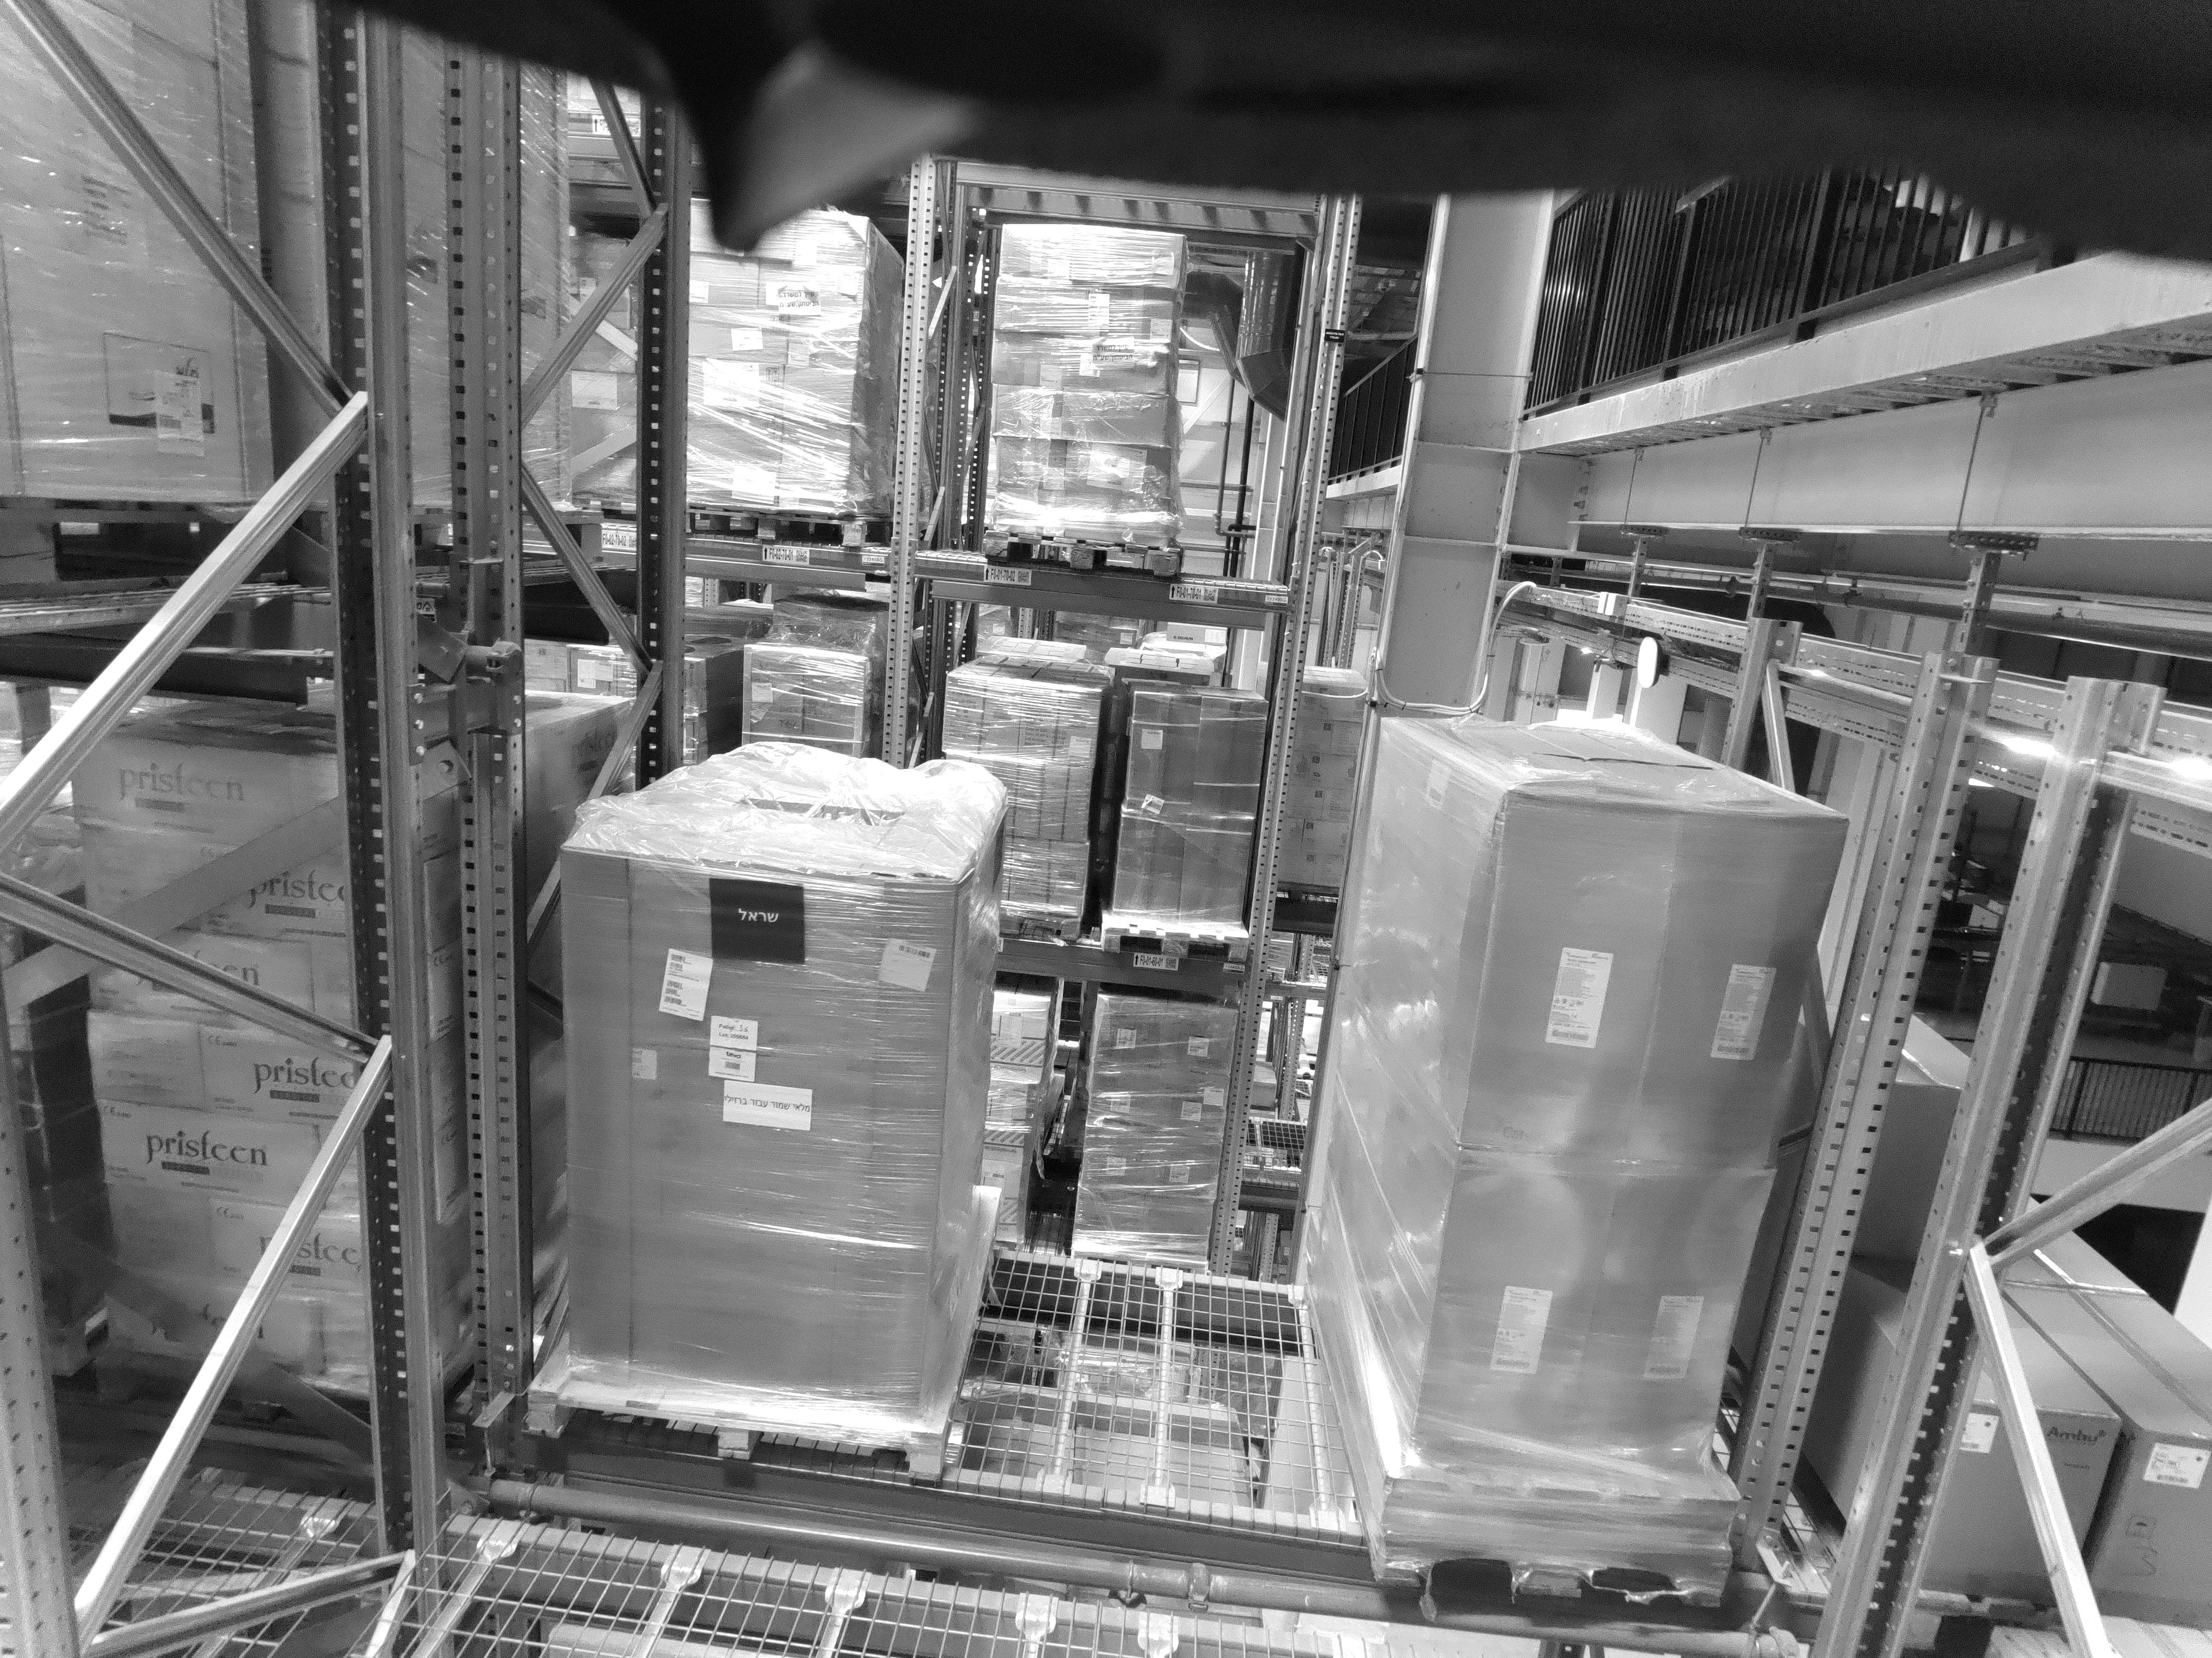empty-shelf: (1069, 761, 1296, 1480)
